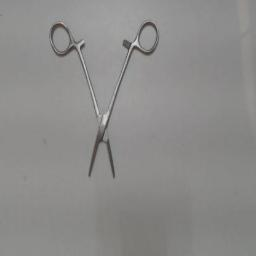Mayo Needle Holder: (47, 16, 163, 186)
